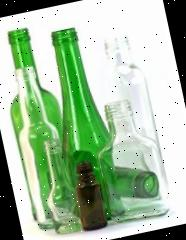glass: (0, 23, 86, 235), (38, 24, 128, 226), (86, 93, 174, 227), (34, 136, 86, 236), (68, 158, 109, 232)
